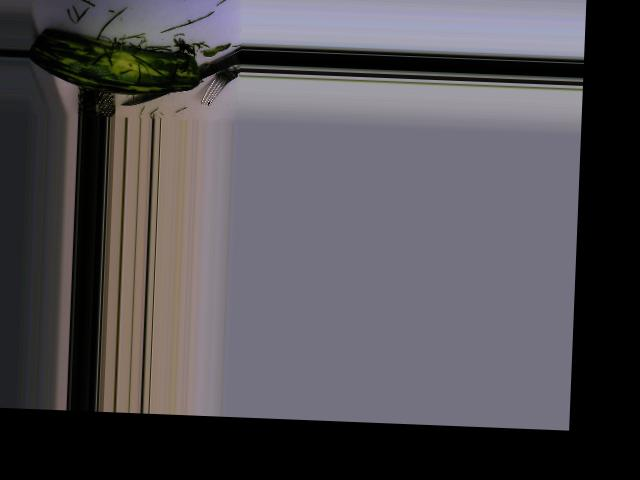cucumber: (28, 27, 202, 96)
